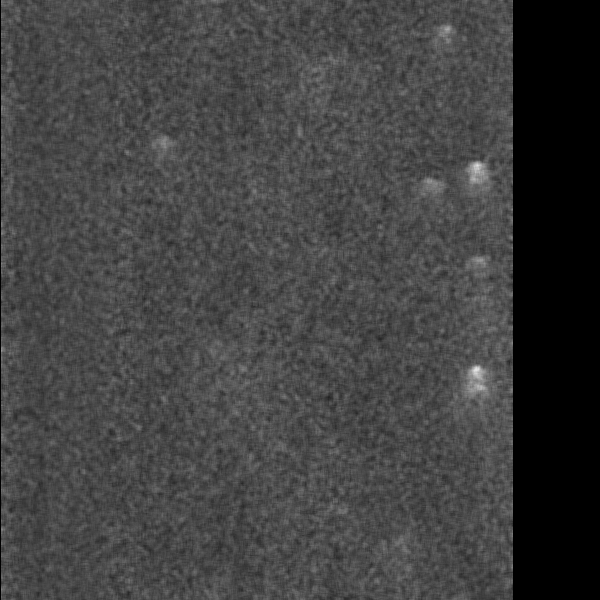spark: (147, 128, 176, 184), (464, 155, 489, 216), (463, 359, 487, 416), (418, 170, 444, 214), (435, 21, 457, 56), (463, 248, 495, 269)
